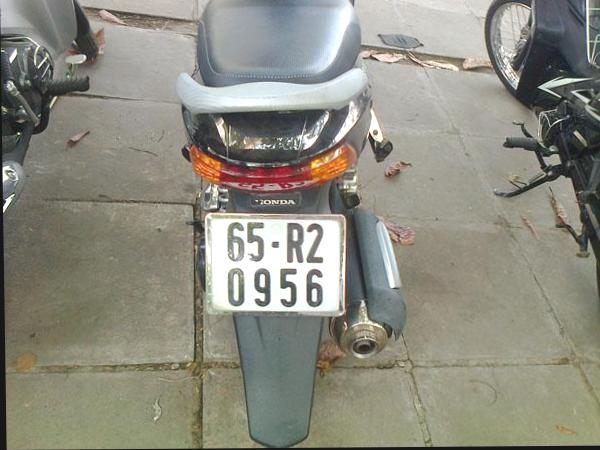License_Plate: (208, 217, 345, 313)
